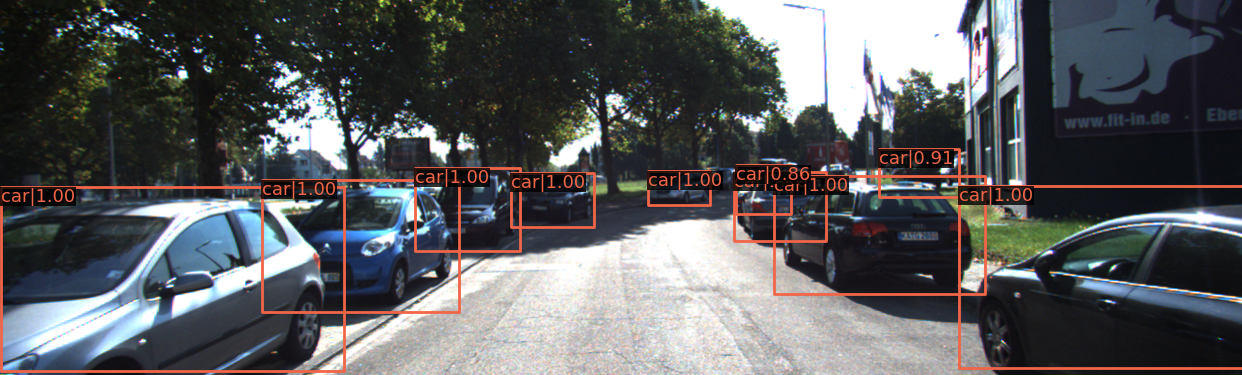car: (951, 191, 1242, 375), (778, 179, 991, 303), (265, 184, 457, 309), (417, 169, 521, 249), (739, 173, 824, 244), (519, 173, 593, 225), (736, 180, 790, 231), (648, 174, 711, 207)
